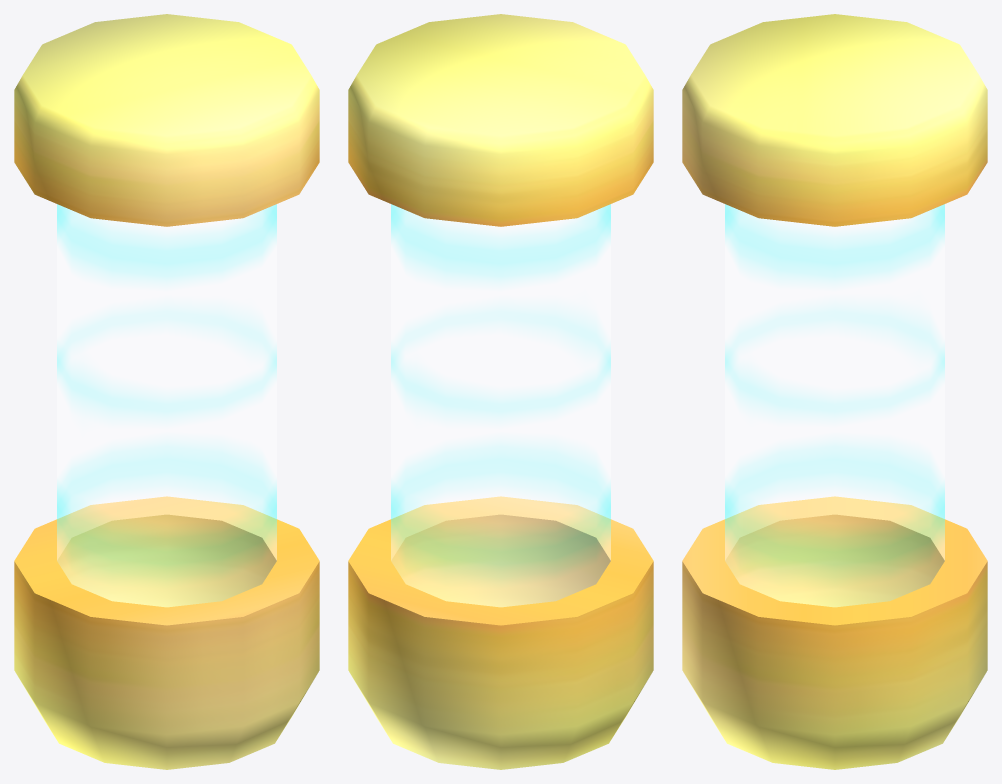
File: EggIncubatorEmptyGold.glb
3 renders of one model, left to right at view 1: azimuth 30°, elevation 25°; view 2: azimuth 150°, elevation 25°; view 3: azimuth 270°, elevation 25°, orthographic.
Parts seen in each view (by area): view 1: EggIncubatorEmptyGold; view 2: EggIncubatorEmptyGold; view 3: EggIncubatorEmptyGold.
Boxes of the visible parts, <box> form: EggIncubatorEmptyGold: <box>14,14,319,769</box>; EggIncubatorEmptyGold: <box>348,14,653,769</box>; EggIncubatorEmptyGold: <box>682,14,987,769</box>.
Size of the model in its own units: 1.77 by 4.11 by 1.77.
Materials: 2 (2 with a texture image).
